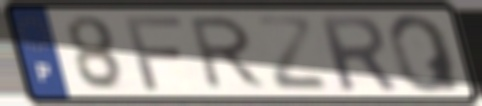8: (63, 14, 126, 92)
F: (121, 13, 186, 93)
Q: (385, 12, 466, 95)
R: (314, 13, 401, 94), (187, 14, 270, 92)
Z: (251, 14, 332, 93)
